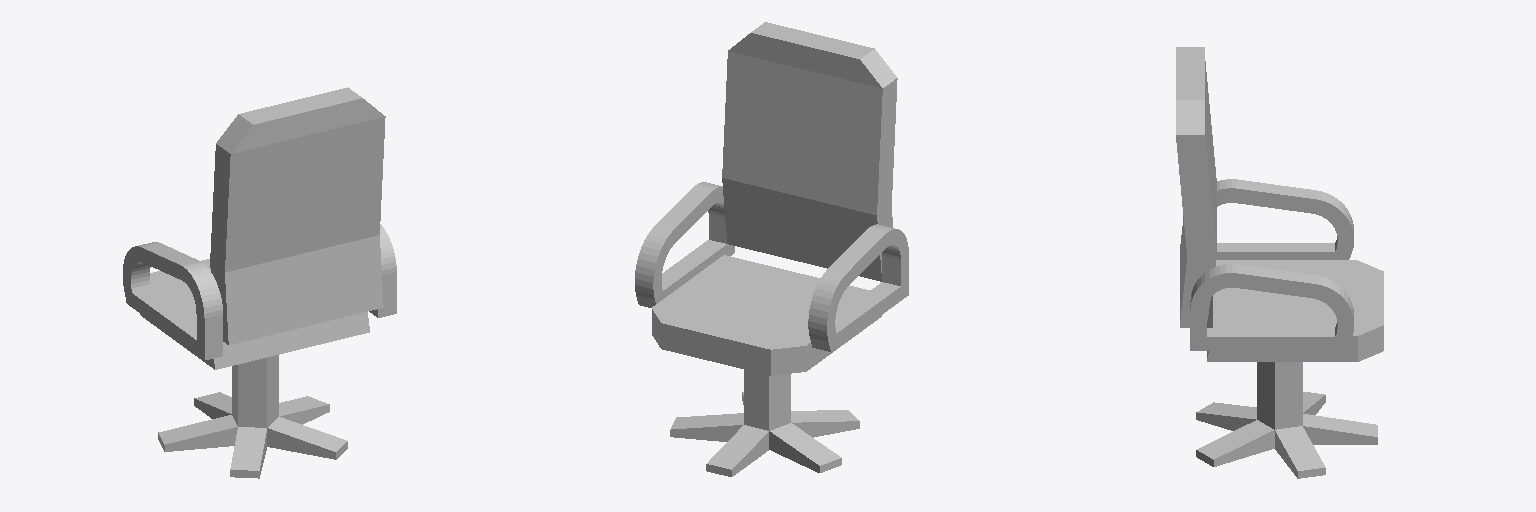
Rendered from office chair.obj.
3 renders of one model, left to right at view 1: azimuth 30°, elevation 25°; view 2: azimuth 150°, elevation 25°; view 3: azimuth 270°, elevation 25°, orthographic.
Parts seen in each view (by area): view 1: chair, chairDesk; view 2: chair, chairDesk; view 3: chair, chairDesk.
Boxes of the visible parts, box(x1,y1,x2,y2) form: chair: box(123, 87, 396, 369); chairDesk: box(158, 355, 347, 478); chair: box(635, 22, 908, 375); chairDesk: box(670, 370, 859, 476); chair: box(1176, 47, 1383, 361); chairDesk: box(1196, 362, 1377, 478).
Size of the model in its own units: 0.335 by 0.6076 by 0.3143.